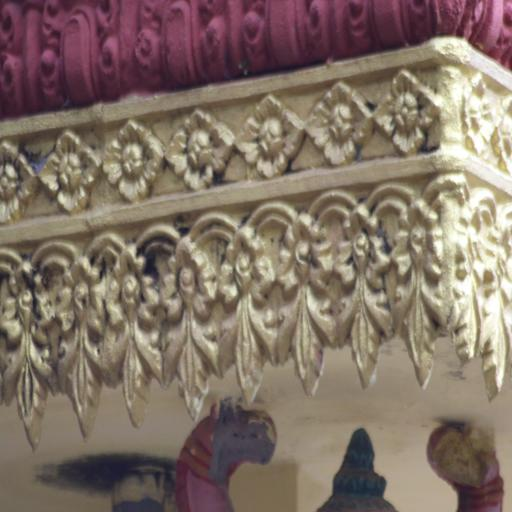hoa: (372, 70, 440, 163), (236, 94, 306, 180), (164, 109, 236, 191), (308, 80, 372, 166), (39, 130, 102, 212), (104, 125, 163, 205), (463, 70, 495, 164), (0, 147, 33, 225), (496, 86, 512, 174)
la: (46, 238, 130, 445), (97, 228, 172, 436), (159, 221, 226, 422), (0, 250, 68, 446), (272, 211, 342, 399), (327, 202, 394, 389), (387, 198, 450, 389), (216, 222, 275, 411), (472, 194, 512, 407), (450, 192, 479, 375)
